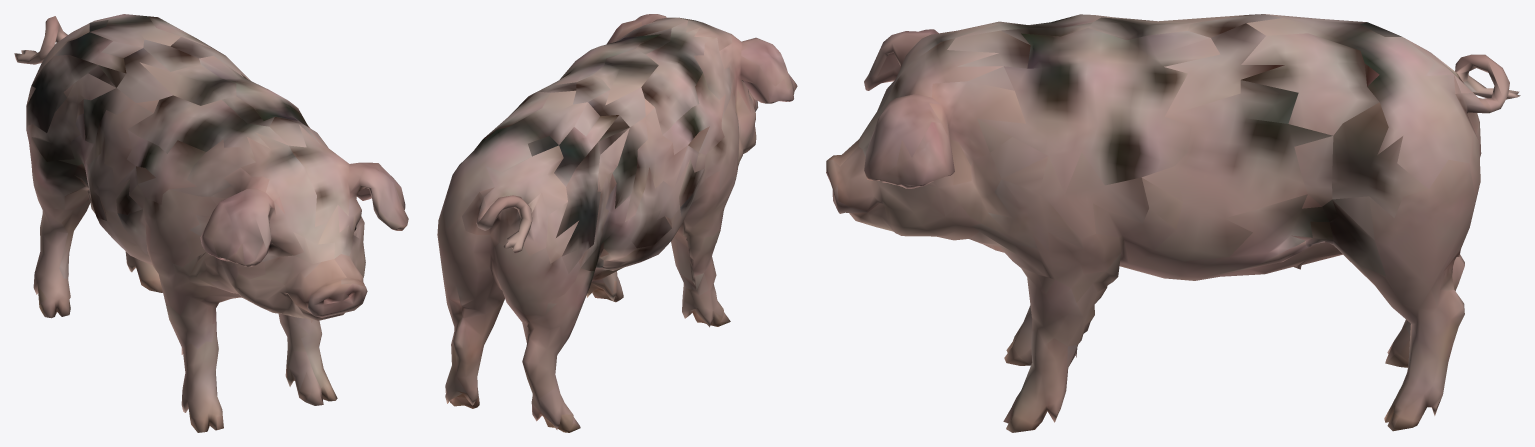
The model's file is pig.glb.
3 renders of one model, left to right at view 1: azimuth 30°, elevation 25°; view 2: azimuth 150°, elevation 25°; view 3: azimuth 270°, elevation 25°, orthographic. The views are drawn at different scales.
Visible parts, largest first — view 1: LO.001; view 2: LO.001; view 3: LO.001.
Boxes of the visible parts, x1=… form: LO.001: x1=14, y1=14, x2=408, y2=432; LO.001: x1=437, y1=14, x2=797, y2=432; LO.001: x1=826, y1=14, x2=1520, y2=432.
Bounding box in the file's own units: 0.6492 × 0.9332 × 1.6.
Materials: 1 (1 with a texture image).
